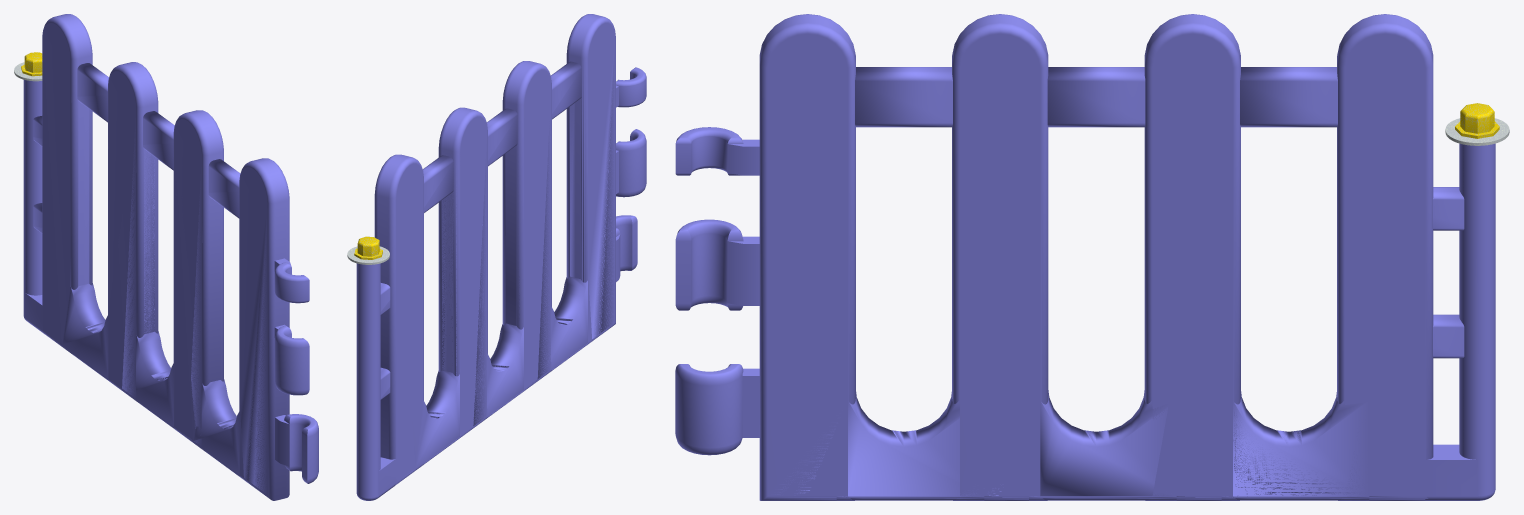
File: oyun-fence.fbx
The picture shows the model from 3 angles, left to right: view 1: azimuth 30°, elevation 25°; view 2: azimuth 150°, elevation 25°; view 3: azimuth 270°, elevation 25°; orthographic projection. The views are drawn at different scales.
Parts seen in each view (by area): view 1: group_13.003; view 2: group_13.003; view 3: group_13.003.
Boxes of the visible parts, x1,y1,x2,y2 form: group_13.003: [14, 14, 318, 500]; group_13.003: [347, 14, 646, 500]; group_13.003: [675, 14, 1509, 500].
Size of the model in its own units: 512 by 4077 by 6463.
